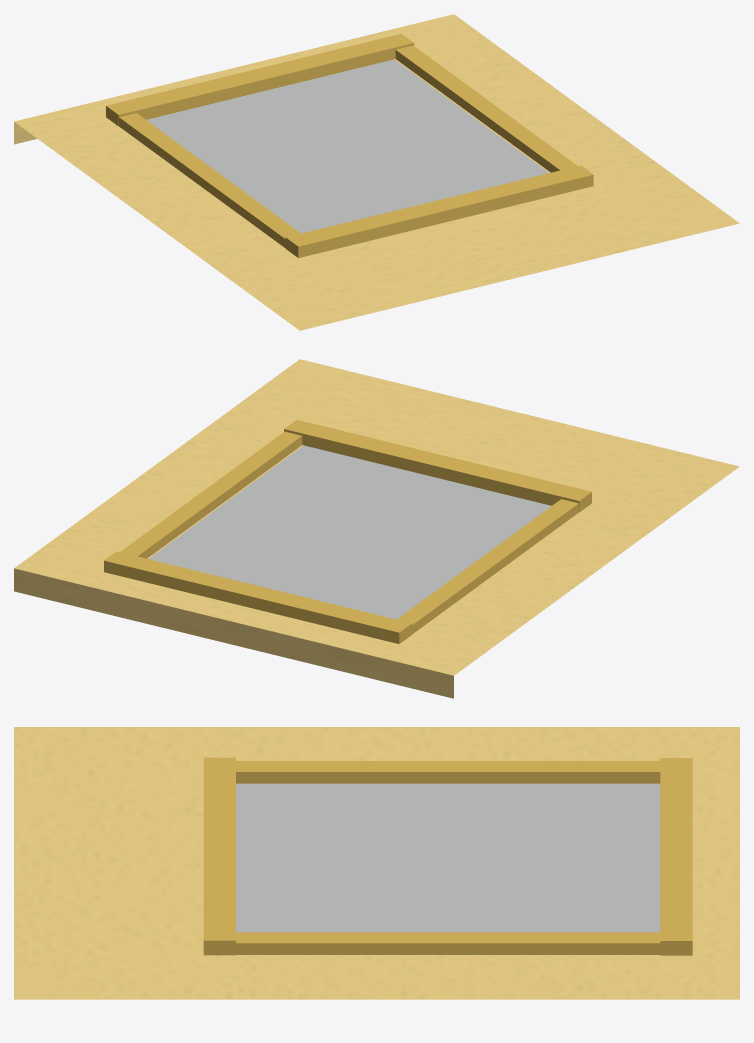
File: RealRoomInsideWindowWall_UtilityRoom.fbx
The picture shows the model from 3 angles, top to bottom: view 1: azimuth 30°, elevation 25°; view 2: azimuth 150°, elevation 25°; view 3: azimuth 270°, elevation 25°; orthographic projection. The views are drawn at different scales.
Parts seen in each view (by area): view 1: Wall_Window.083; view 2: Wall_Window.083; view 3: Wall_Window.083.
Boxes of the visible parts, <box> form: Wall_Window.083: <box>14,14,739,330</box>; Wall_Window.083: <box>14,359,739,698</box>; Wall_Window.083: <box>14,727,739,999</box>.
Bounding box in the file's own units: 2 × 0.1502 × 2.25.
